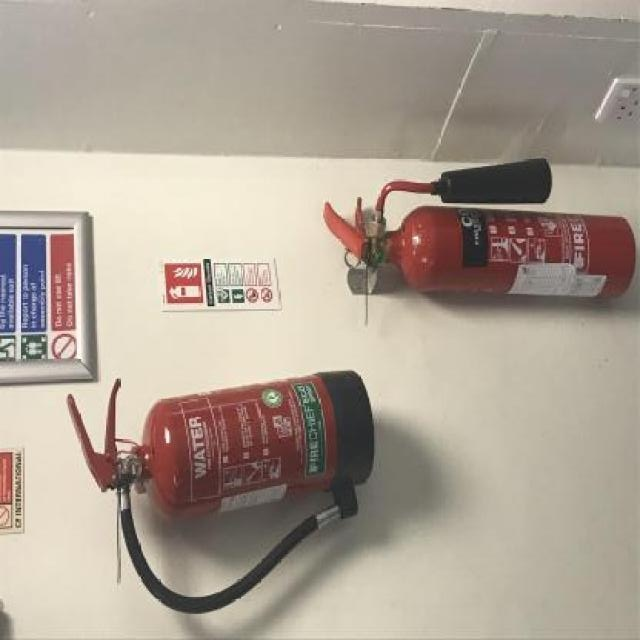fire extinguisher: (70, 352, 381, 619), (327, 148, 636, 306)
